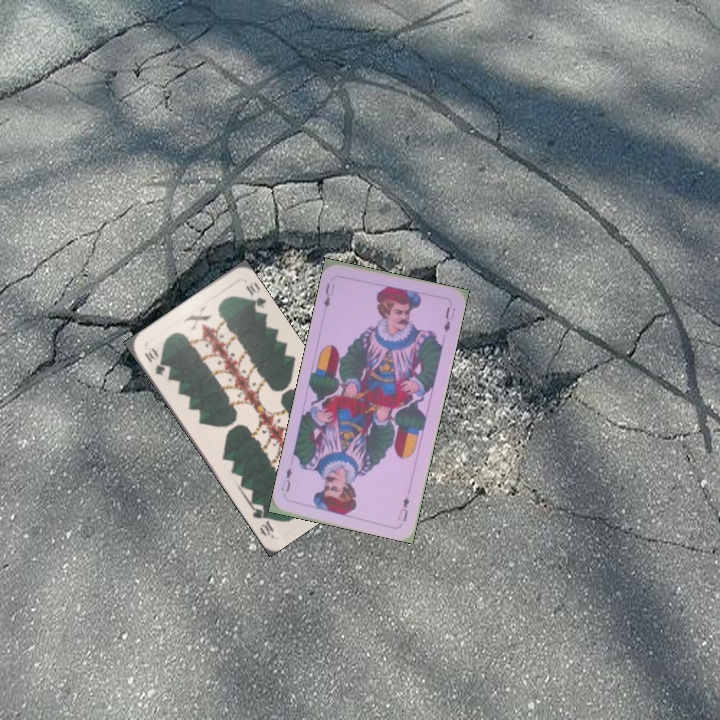EU: (394, 492, 412, 524), (320, 279, 337, 310)
G10: (140, 343, 168, 378)
